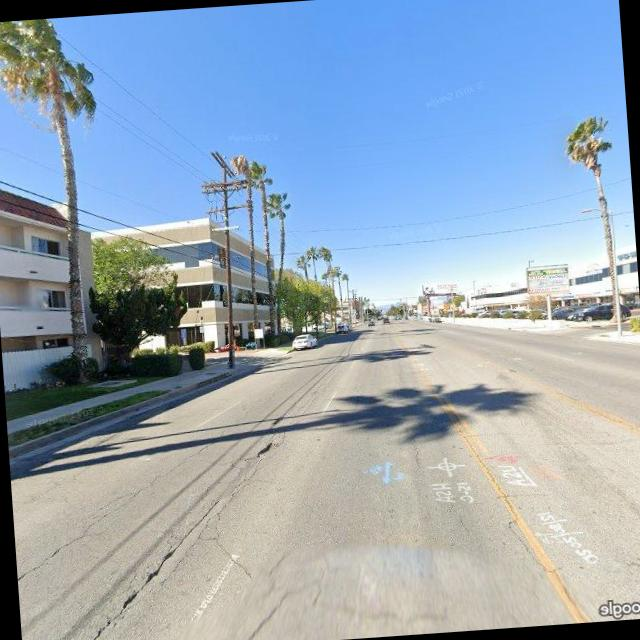pothole: (81, 410, 302, 636), (11, 422, 242, 576), (446, 401, 516, 523)
